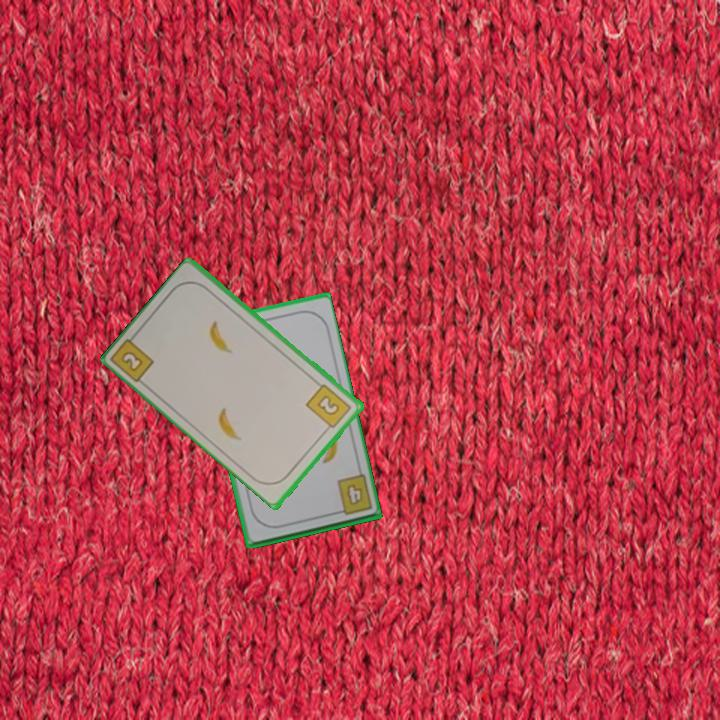2b: (303, 380, 355, 435), (109, 328, 157, 385)
4b: (330, 471, 375, 518)
